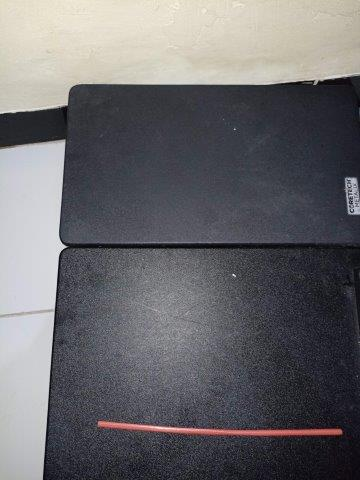sedotan: (98, 421, 342, 436)
